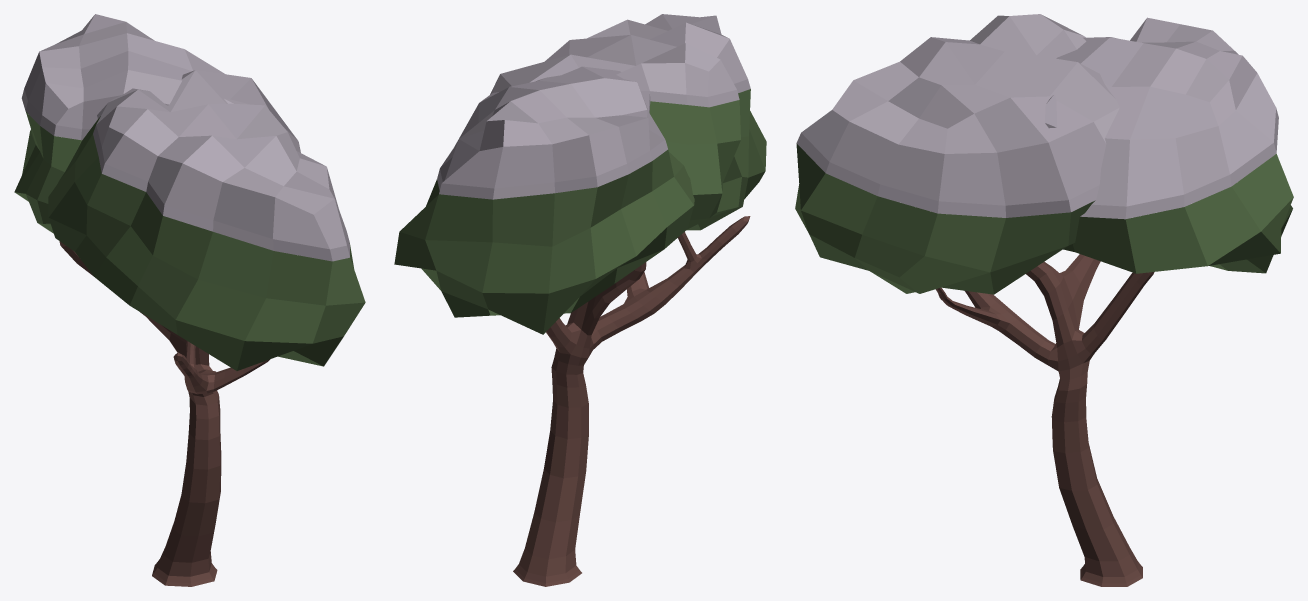
File: CommonTree_Snow_5.glb
The picture shows the model from 3 angles, left to right: view 1: azimuth 30°, elevation 25°; view 2: azimuth 150°, elevation 25°; view 3: azimuth 270°, elevation 25°; orthographic projection. The views are drawn at different scales.
Visible parts, largest first — view 1: CommonTree; view 2: CommonTree; view 3: CommonTree.
Boxes of the visible parts, x1,y1,x2,y2 form: CommonTree: (14, 14, 365, 586); CommonTree: (394, 14, 766, 586); CommonTree: (795, 14, 1293, 586).
Size of the model in its own units: 1.29 by 2.57 by 2.25.
